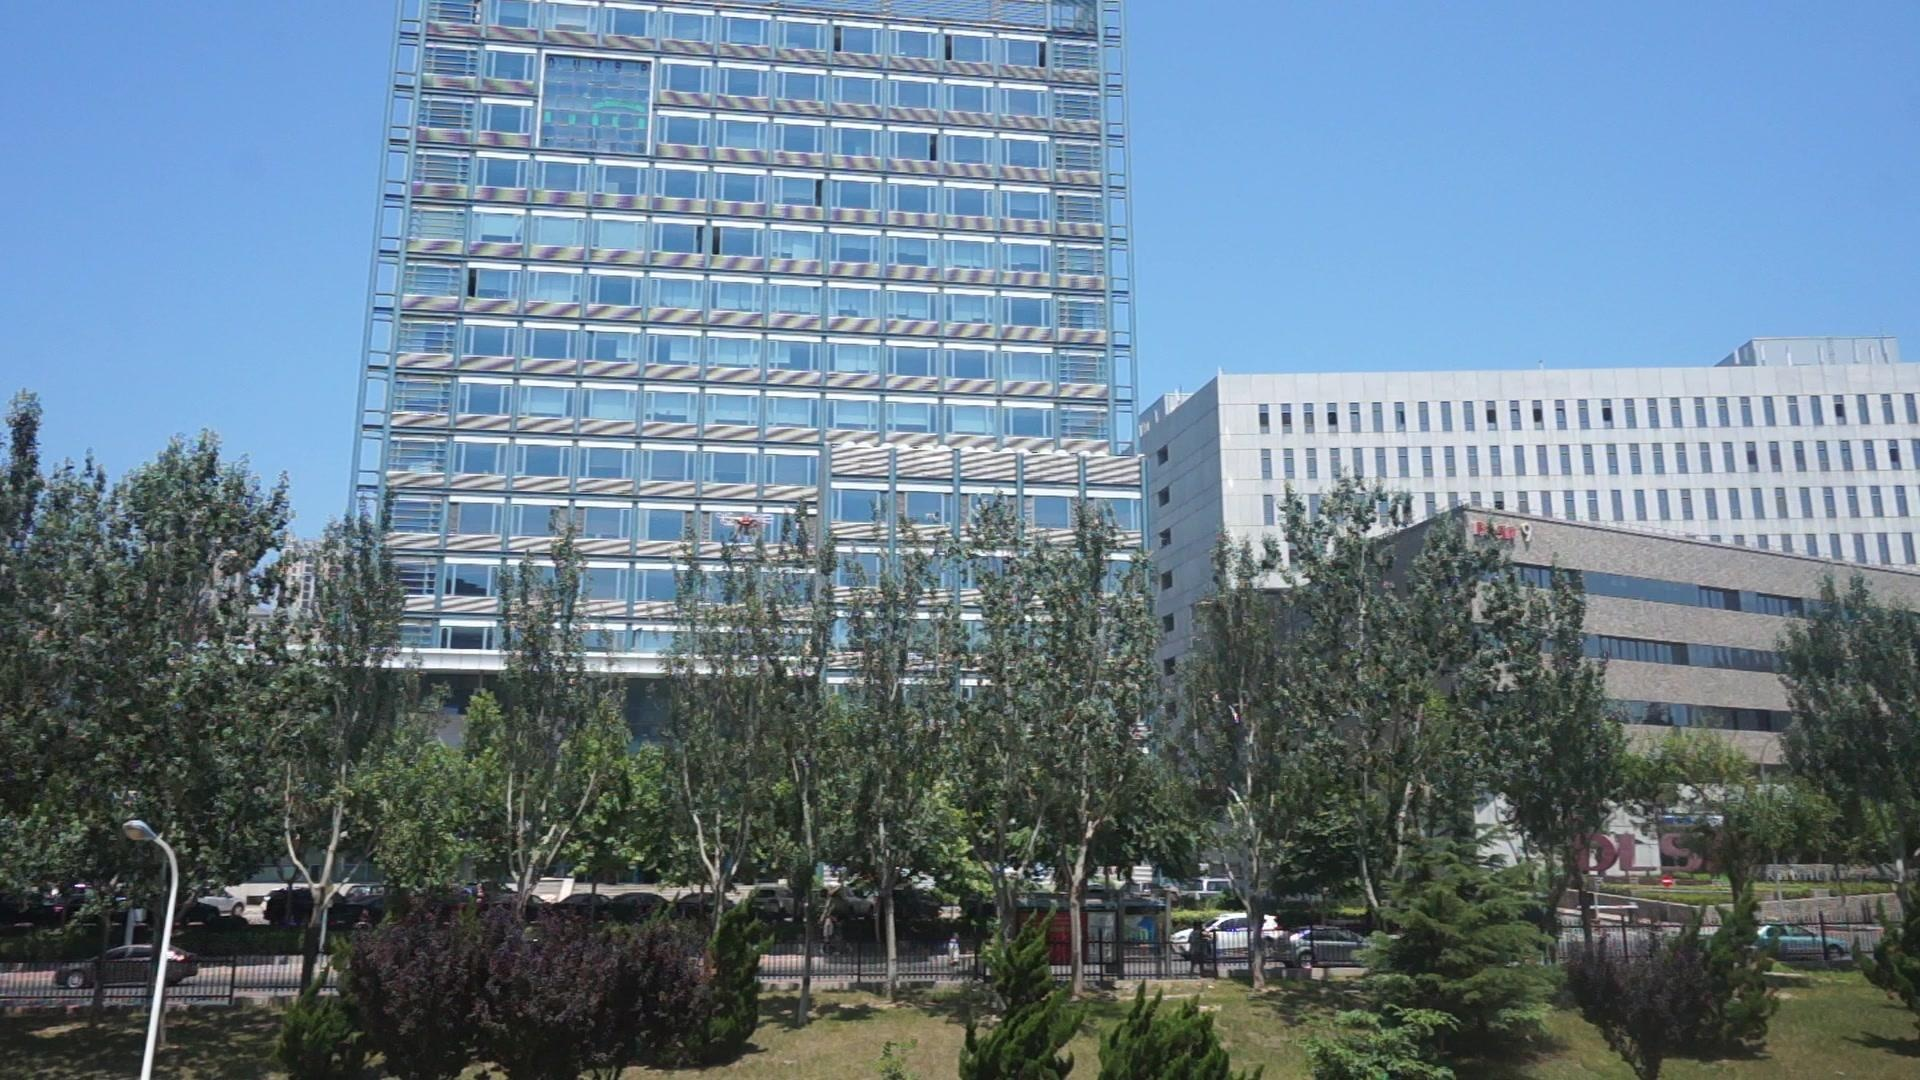UAV: (716, 514, 775, 538)
